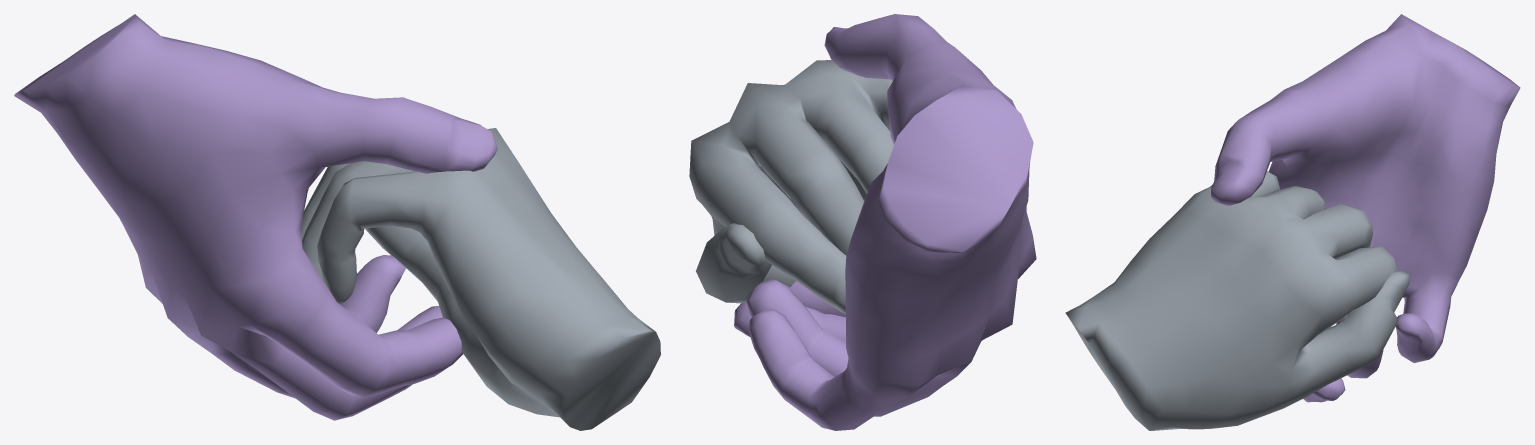
Rendered from pred_0.glb.
3 views of the same model, side by side, from view 1: azimuth 30°, elevation 25°; view 2: azimuth 150°, elevation 25°; view 3: azimuth 270°, elevation 25° (orthographic). The views are drawn at different scales.
Bounding box in the file's own units: 0.1648 × 0.1378 × 0.1876.
